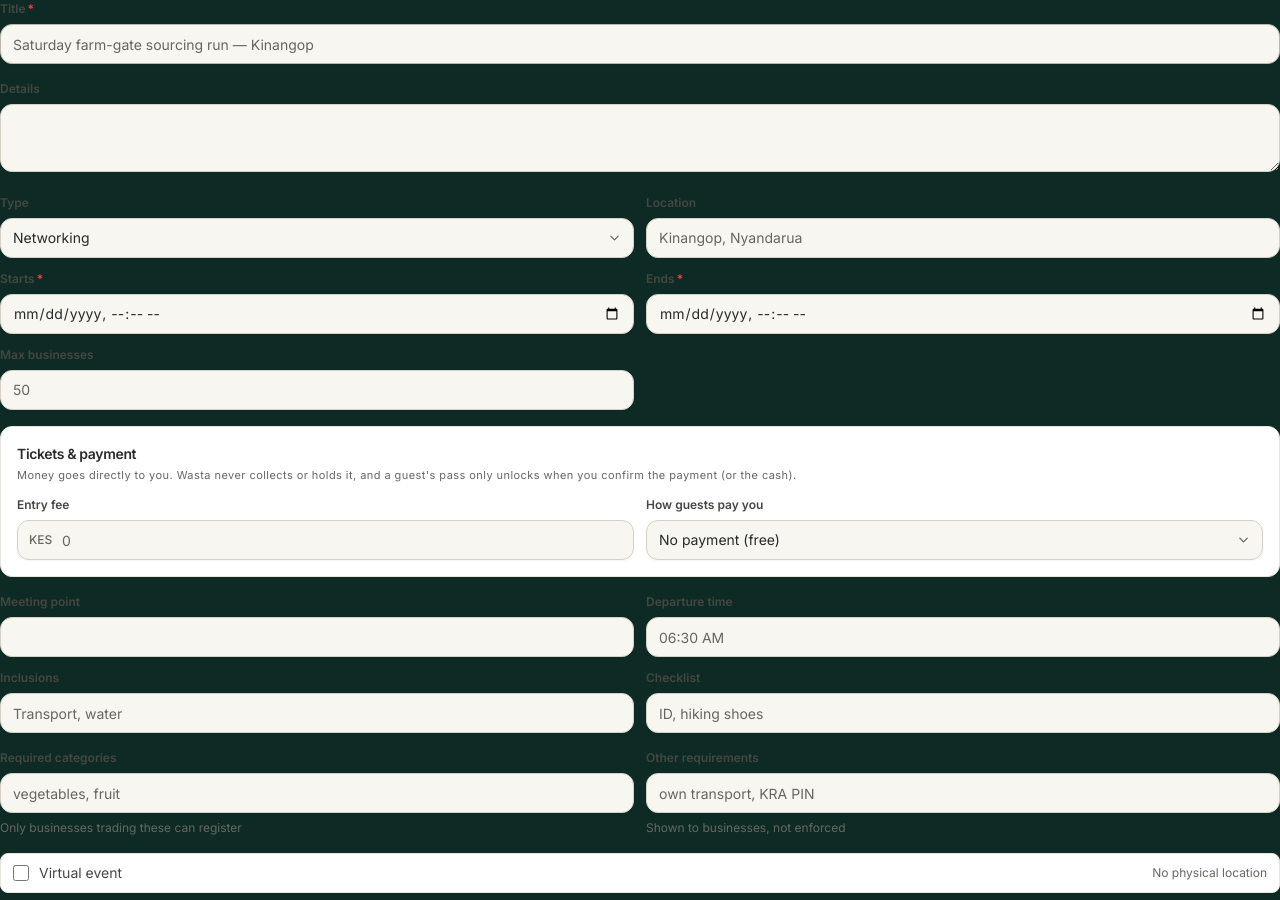
event creation payment section › explains cash and asks for no M-Pesa number
Select "Cash to the organiser" in the dropdown labelled "How guests pay you". click: [954, 540]
box: [646,520,1263,560]
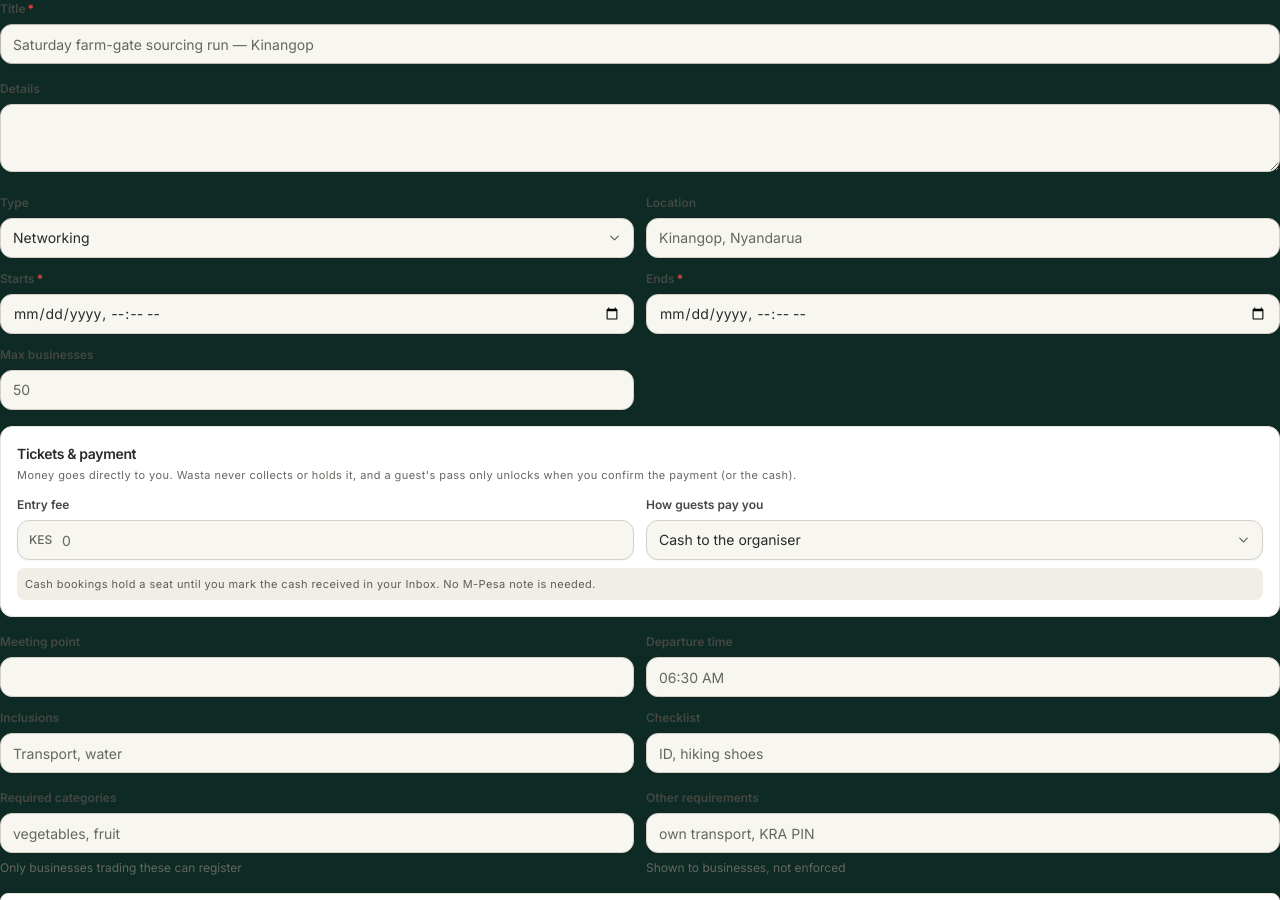
Check: the text "No M-Pesa note is needed" is shown, box [25,577,596,591]
